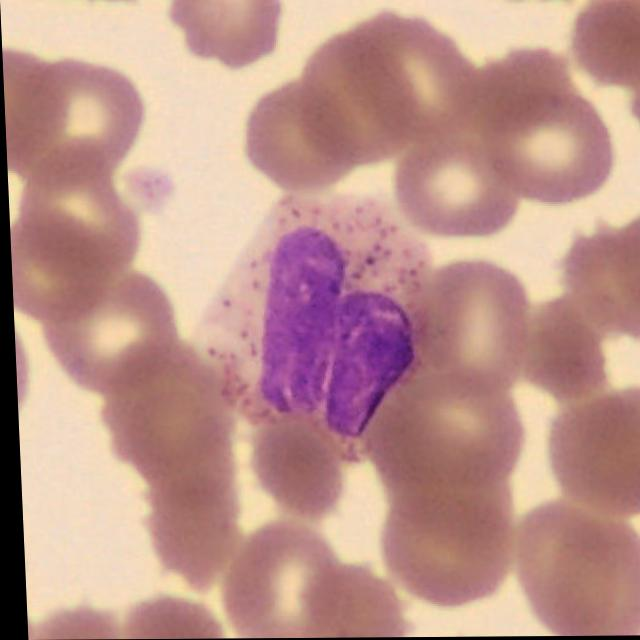Neutrofilo segmentado: (189, 197, 429, 447)
